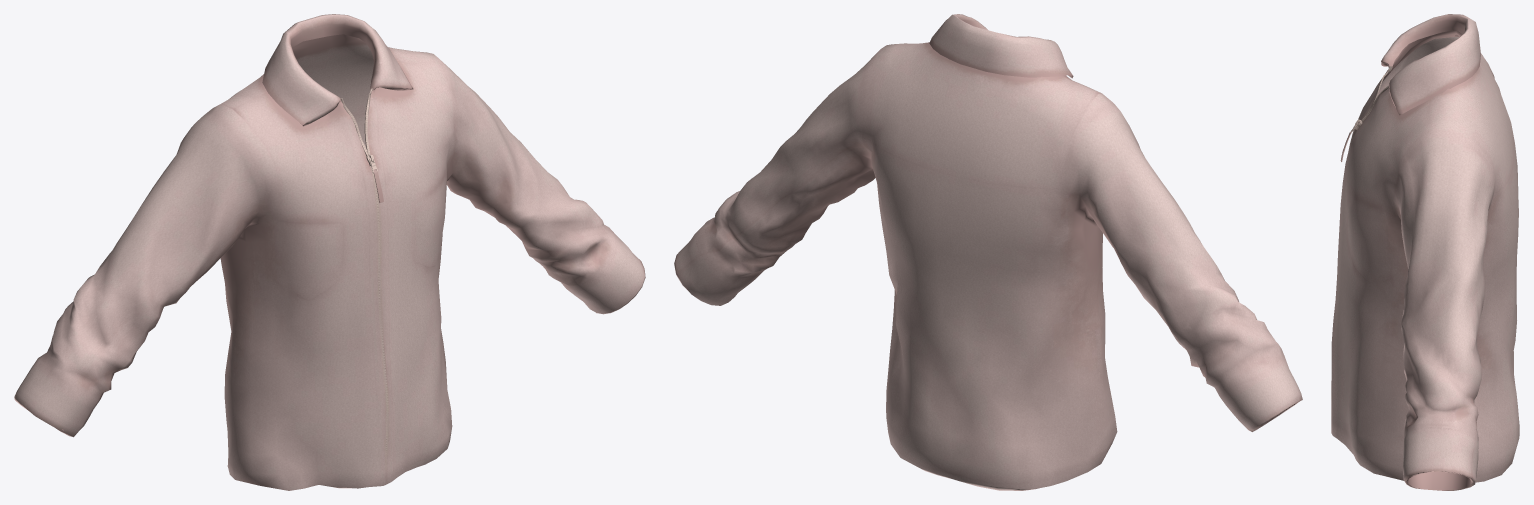
File: shirt10.glb
3 renders of one model, left to right at view 1: azimuth 30°, elevation 25°; view 2: azimuth 150°, elevation 25°; view 3: azimuth 270°, elevation 25°, orthographic. The views are drawn at different scales.
Parts seen in each view (by area): view 1: Cloth_L; view 2: Cloth_L; view 3: Cloth_L.
Part boxes in pixels (x1,y1,x2,y2): Cloth_L: (14,14,645,490); Cloth_L: (674,14,1302,490); Cloth_L: (1331,14,1519,490).
Bounding box in the file's own units: 108 × 73.61 × 29.54.
Materials: 1 (1 with a texture image).
